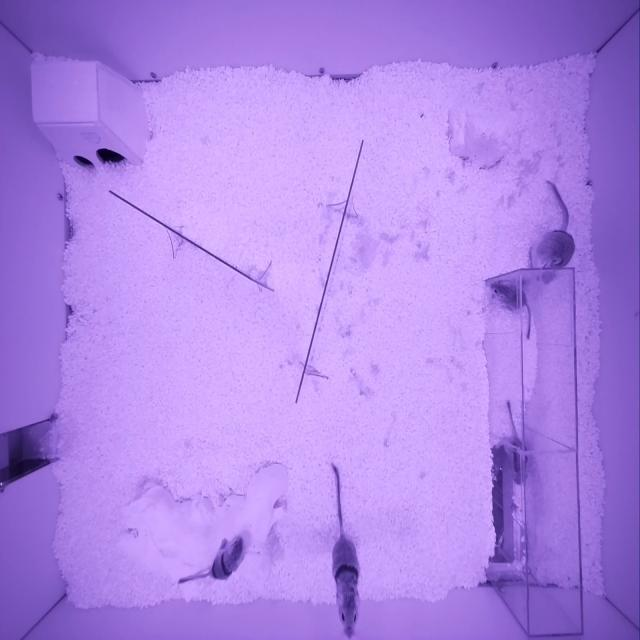adult_back: (531, 229, 576, 284)
adult_front: (331, 538, 361, 640)
pup_fluffy: (490, 280, 527, 309)
pup_h_stripe: (210, 534, 245, 580)
pup_v_stripe: (497, 435, 528, 485)
